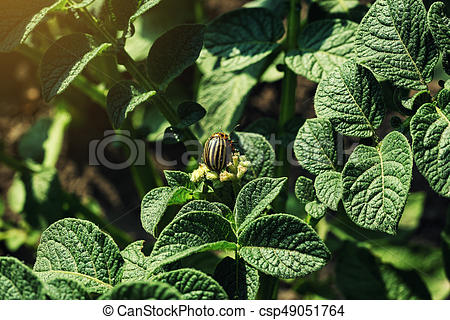hrosc: (199, 123, 237, 174)
